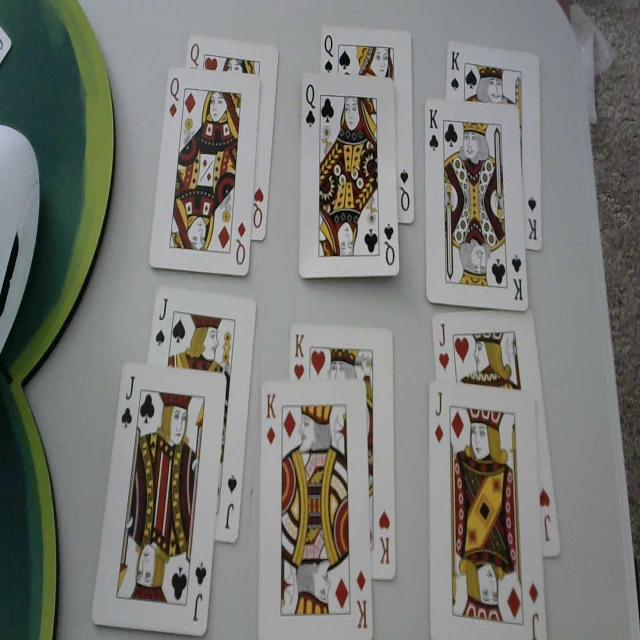JC: (190, 560, 208, 622), (119, 375, 135, 429)
JD: (526, 578, 541, 640), (433, 388, 446, 445)
JH: (538, 484, 554, 550), (437, 317, 452, 371)
JS: (224, 473, 240, 529), (154, 295, 170, 345)
KC: (511, 254, 524, 303), (428, 109, 440, 154)
KD: (354, 568, 367, 634), (265, 391, 277, 447)
KH: (378, 508, 392, 570), (294, 331, 305, 384)
KS: (526, 191, 538, 246), (450, 46, 461, 92)
QC: (382, 221, 397, 269), (304, 81, 317, 128)
QD: (233, 219, 247, 269), (168, 75, 180, 118)
QH: (252, 184, 264, 231)
QS: (398, 167, 412, 215), (324, 32, 334, 75)
